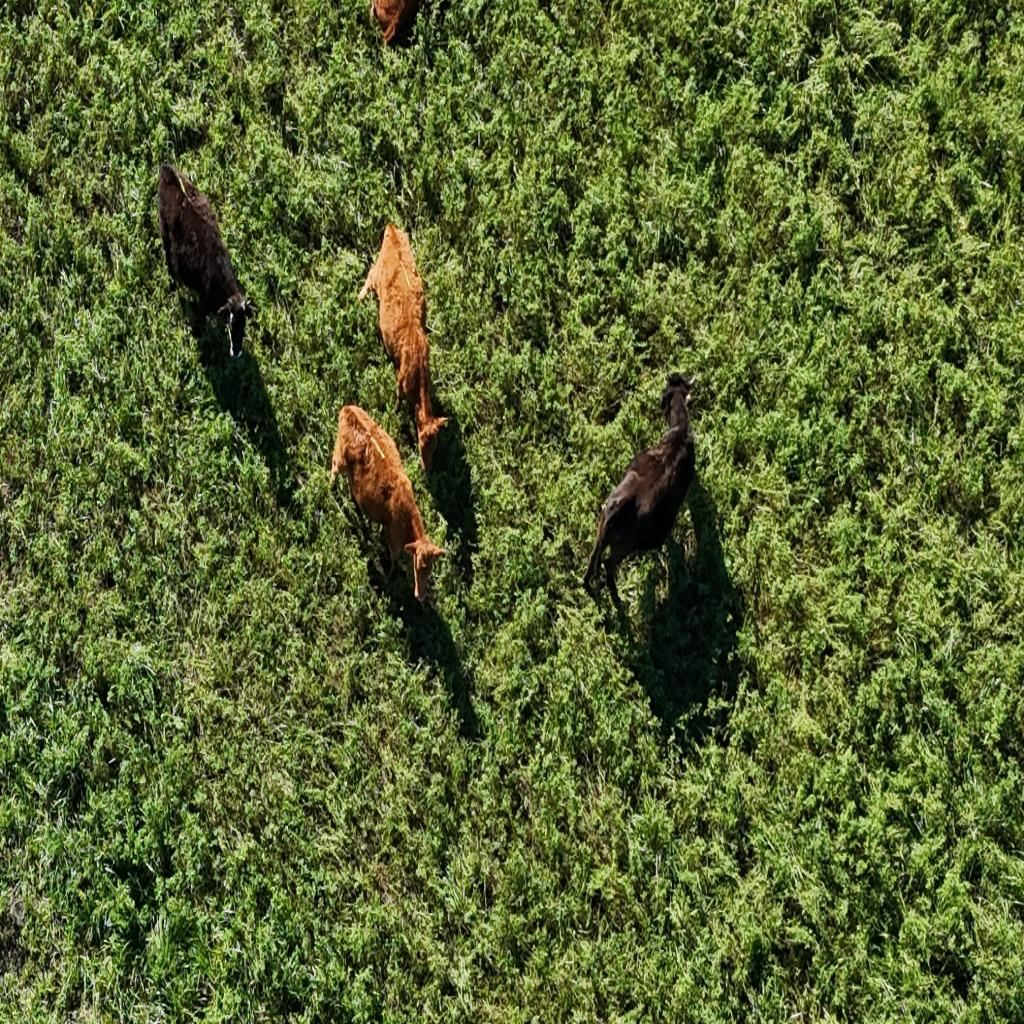cow: (581, 361, 702, 627), (354, 216, 452, 484), (328, 398, 450, 605), (155, 163, 257, 360)
